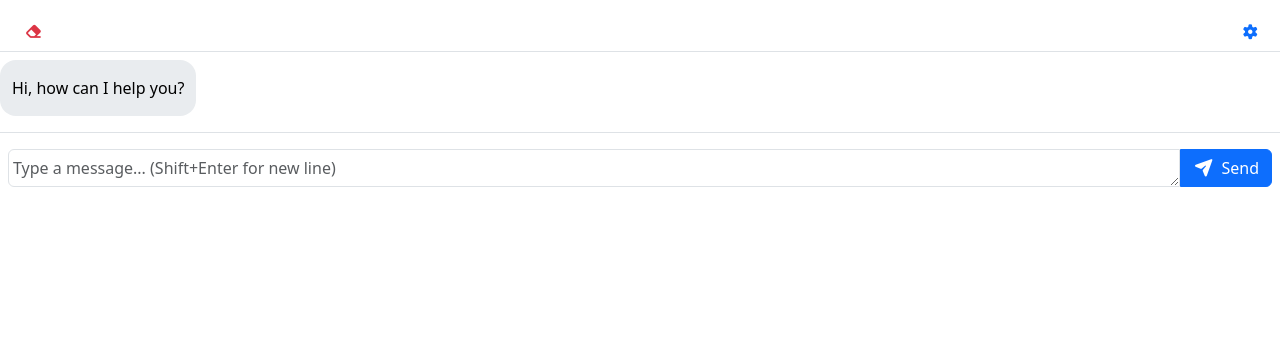
Test: Chat request errors › reports an empty response
Expected: the button "Send" is shown, x1=1180 y1=149 x2=1272 y2=187
Type "hello" into the text box with placeholder "Type a message... (Shift+Enter for new line)". click: (594, 168)
box: x1=8 y1=149 x2=1180 y2=187
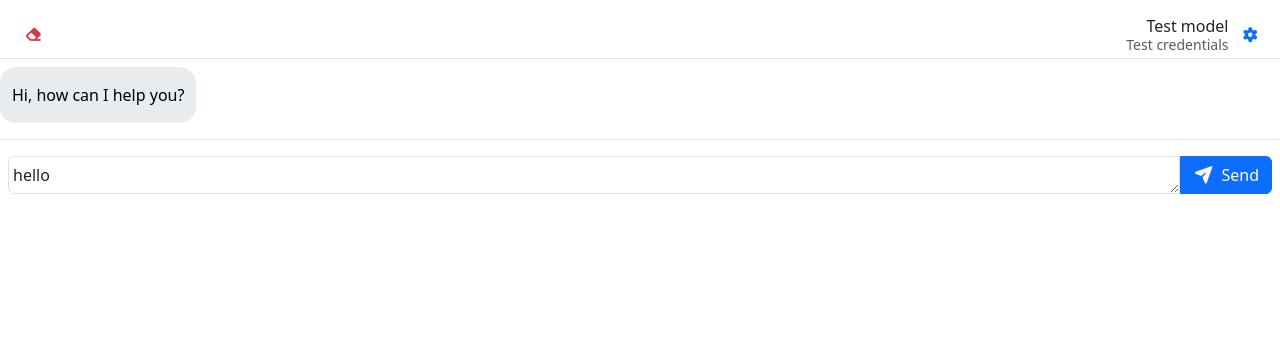
Click the button "Send". click: (1226, 174)
box: x1=1180 y1=156 x2=1272 y2=194
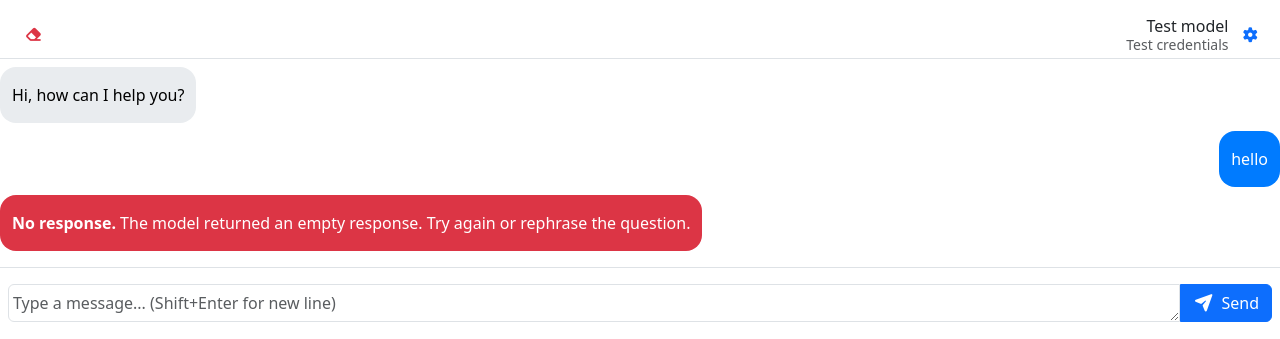
Now the text "empty response" is shown, box x1=116 y1=212 x2=690 y2=234
